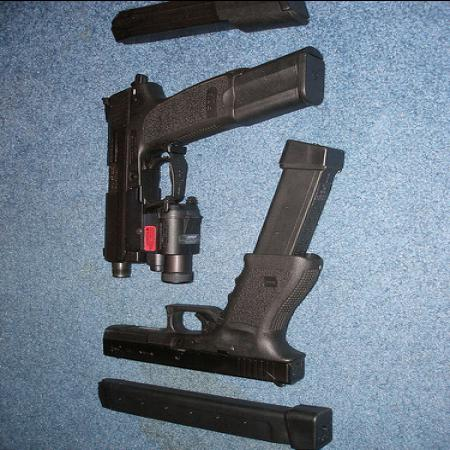Pistol: (99, 64, 238, 284), (98, 251, 324, 385)
